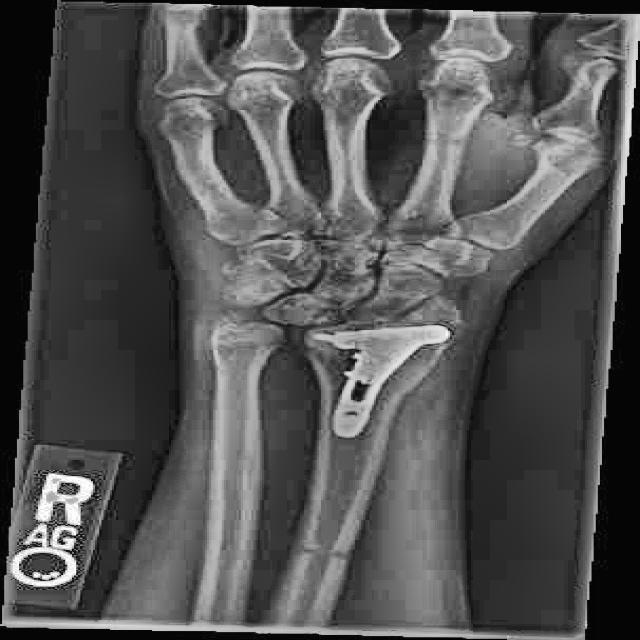wrist positive: (280, 293, 371, 340), (202, 325, 295, 366)
